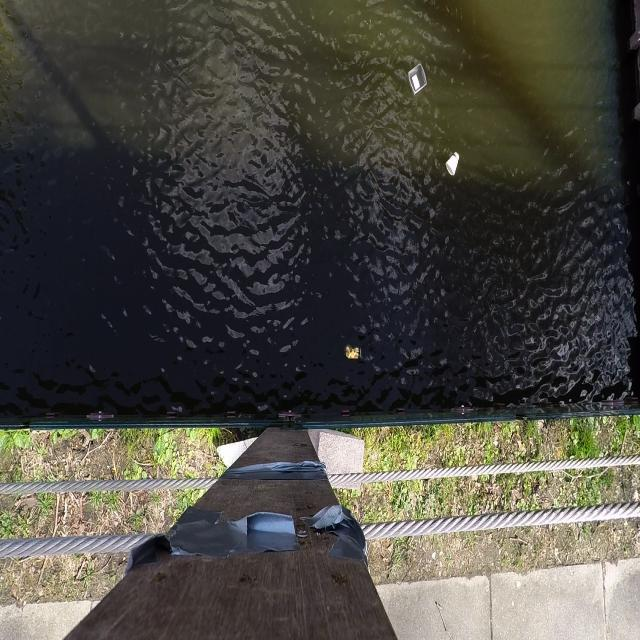Autre plastique: (405, 57, 433, 99)
Non plastique: (440, 149, 461, 185), (338, 340, 364, 366)
